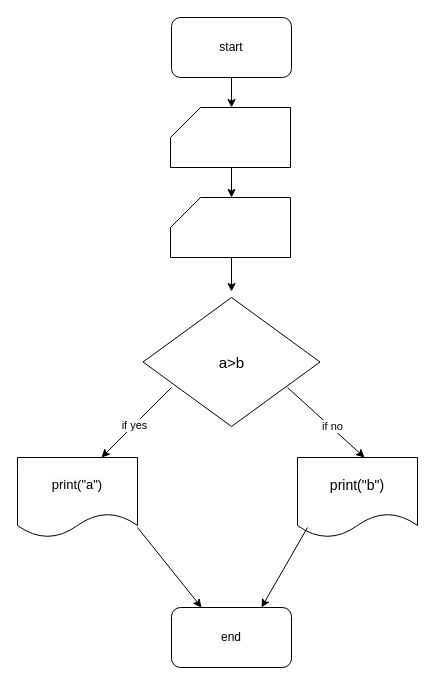
The diagram is 435 pixels wide and 685 high, and some of its shapes have lost their labels. Here are the shapes that lost their labels. From the top down, the centre of each, then its label:
At (x=230, y=137): "a=enter number:".
At (x=230, y=227): "b=enter number:".
